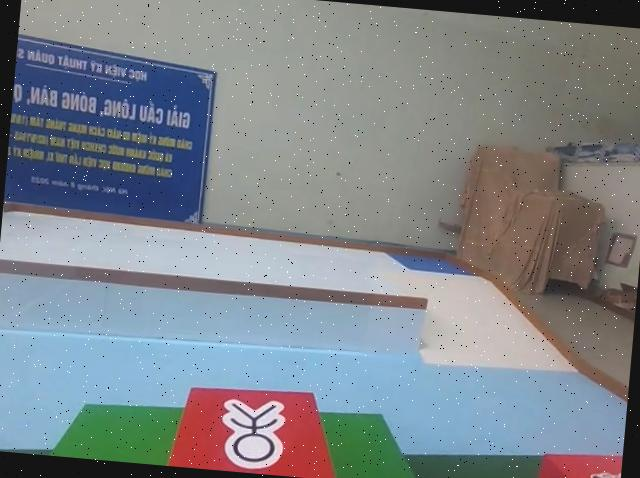R1: (527, 440, 623, 478)
R2 Real: (162, 380, 343, 478)
